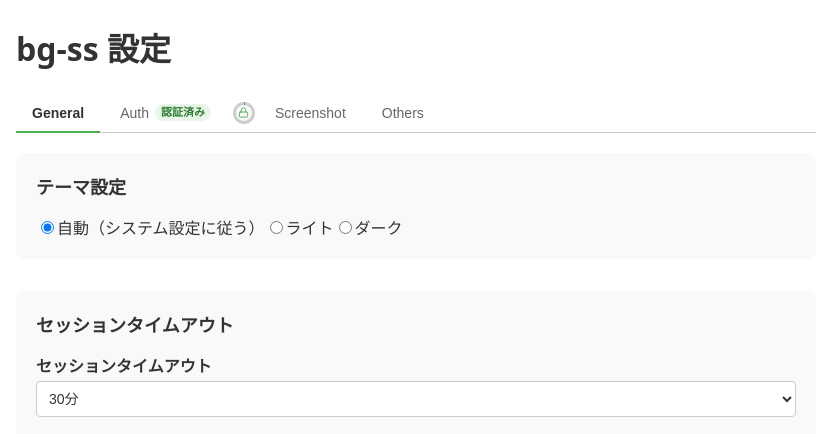
Test: Options App › トースト通知 › 設定保存失敗時にerrorトーストが表示されUIは維持される
The image size is (833, 434).
セッションタイムアウト select を変更（@change で即時保存失敗 → errorトースト）
Select "60分" in the dropdown with class "select-input" at (416, 399), box [36,381,796,417]
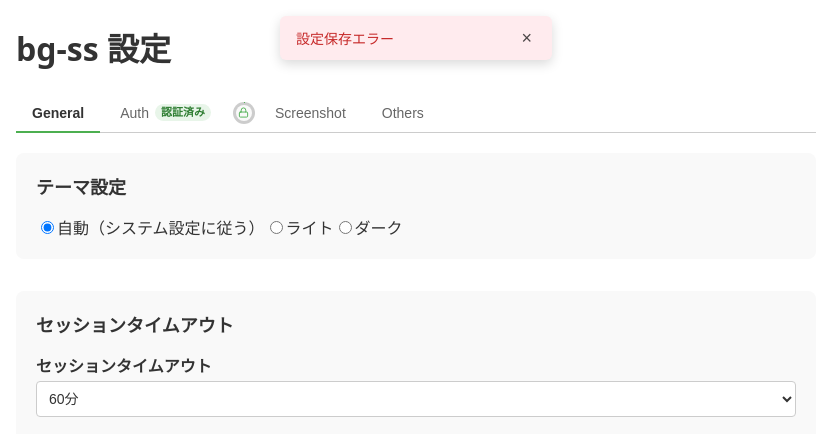
Expected: the text "bg-ss 設定" is shown, [16,27,171,70]
Now the message "設定保存エラー ×" is shown, box [280,16,552,60]
